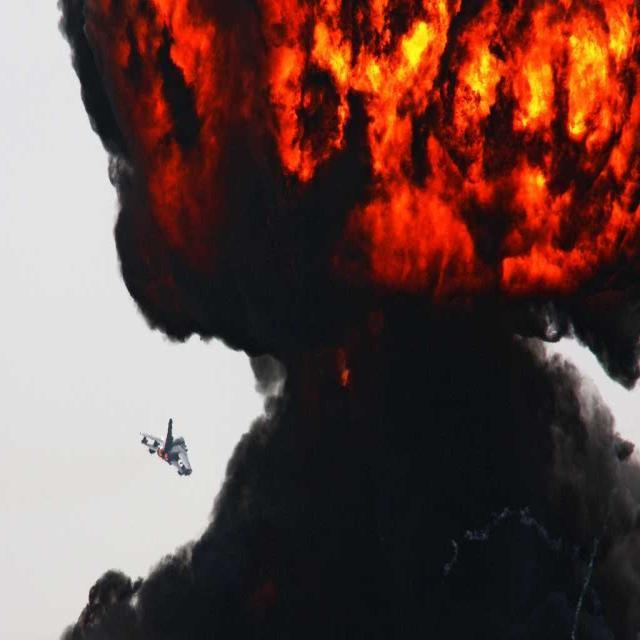Fire: (316, 0, 393, 156), (508, 170, 594, 291), (381, 171, 466, 287), (256, 10, 310, 186), (564, 5, 618, 164), (168, 7, 227, 150), (402, 13, 452, 134), (518, 19, 553, 131)
